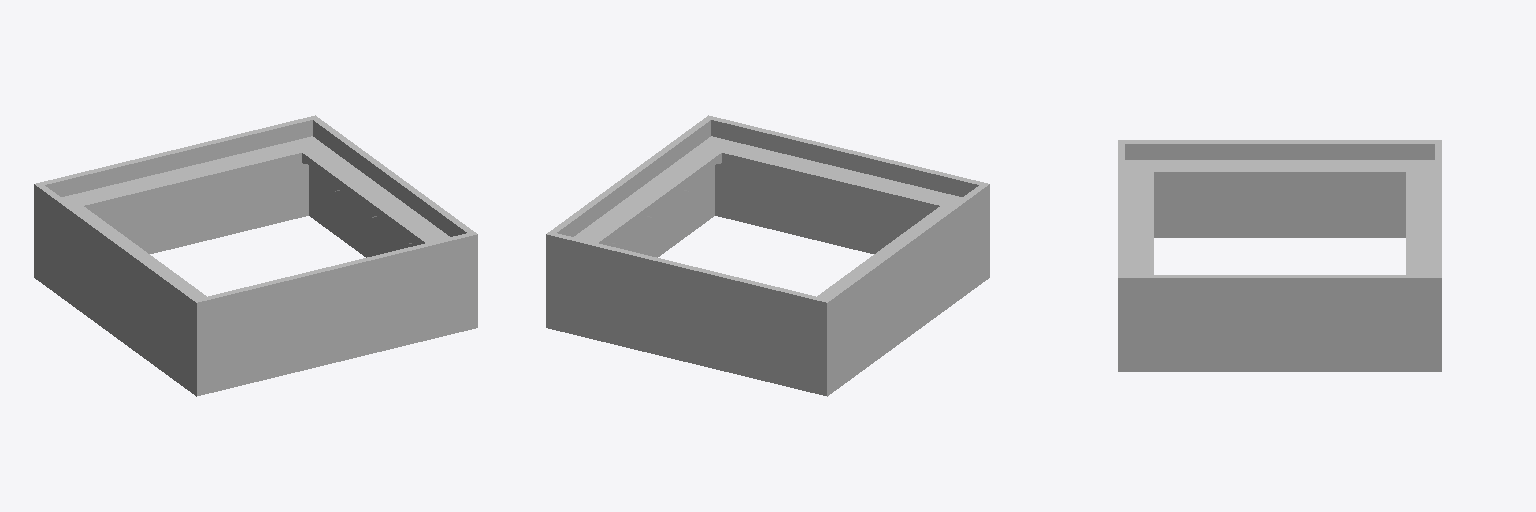
Rendered from Wallz.obj.
3 renders of one model, left to right at view 1: azimuth 30°, elevation 25°; view 2: azimuth 150°, elevation 25°; view 3: azimuth 270°, elevation 25°, orthographic.
Parts seen in each view (by area): view 1: Cube; view 2: Cube; view 3: Cube.
Boxes of the visible parts, x1=… form: Cube: x1=34, y1=115, x2=477, y2=396; Cube: x1=546, y1=115, x2=989, y2=396; Cube: x1=1118, y1=140, x2=1441, y2=371.
Size of the model in its own units: 72.07 by 22.93 by 72.07.